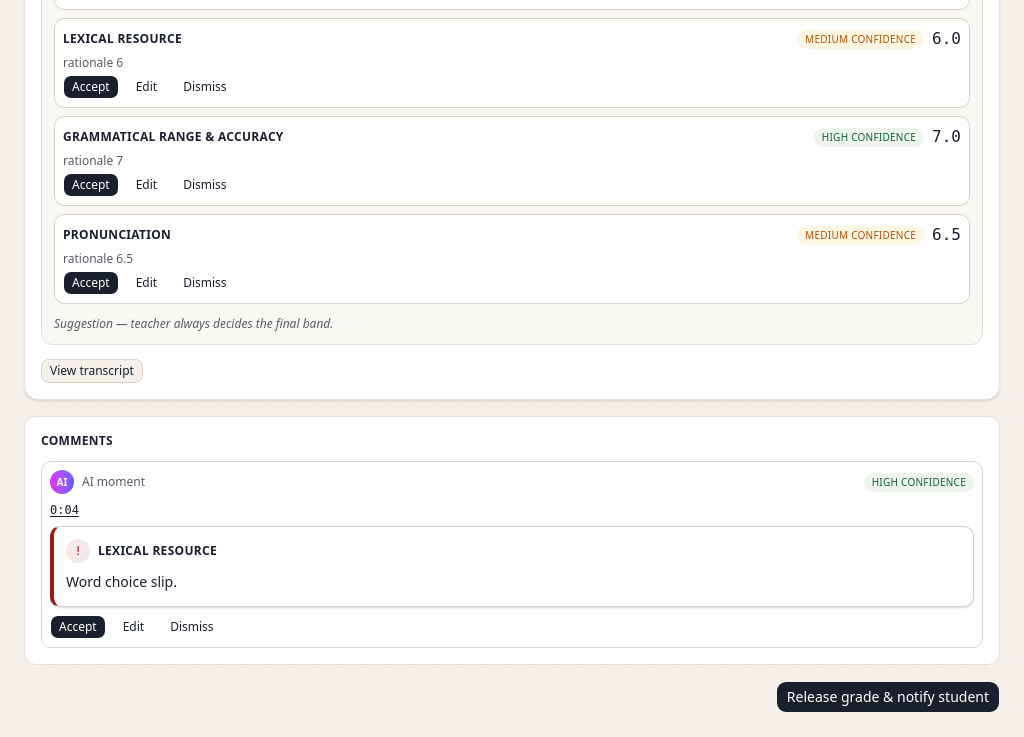
Test: SpeakingGradingPage AI — moment actions at the page level (AC6/AC8, TA) › Dismiss moment: it leaves the rail AND its waveform pin, and does NOT become a draft comment
(page scrolled)
Click the button with test id "ai-moment-ai-m-0-dismiss".
click(192, 627)  # box [161,615,223,639]
(page scrolled)
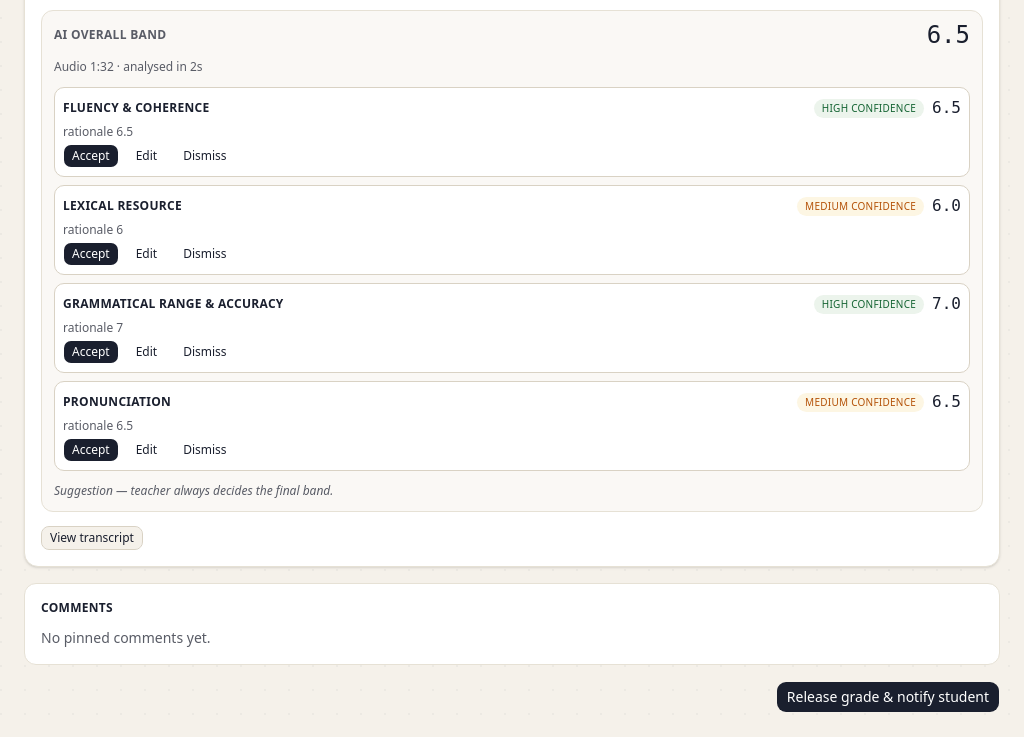
Now the element with test id "ai-moment-ai-m-0" is gone
Now the text "Word choice slip." is gone
